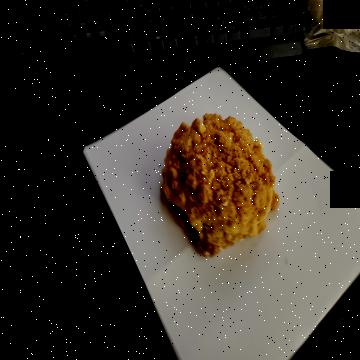soboru_bread: (161, 115, 280, 256)
